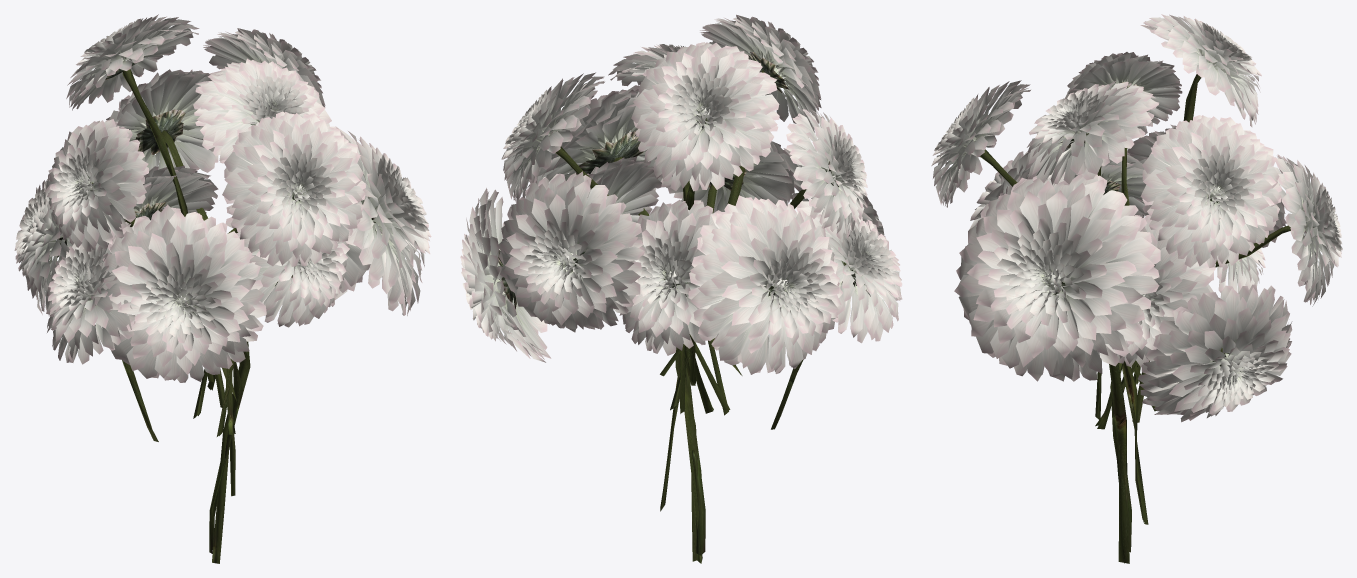
The model's file is z1_crisantemo.obj.
3 renders of one model, left to right at view 1: azimuth 30°, elevation 25°; view 2: azimuth 150°, elevation 25°; view 3: azimuth 270°, elevation 25°, orthographic. The views are drawn at different scales.
Parts seen in each view (by area): view 1: _Dahlia_WHITE2_270224_1; view 2: _Dahlia_WHITE2_270224_1; view 3: _Dahlia_WHITE2_270224_1.
Part boxes in pixels (left/top/right/bottom): _Dahlia_WHITE2_270224_1: left=14, top=14, right=431, bottom=563; _Dahlia_WHITE2_270224_1: left=460, top=14, right=902, bottom=563; _Dahlia_WHITE2_270224_1: left=931, top=14, right=1342, bottom=563.
Bounding box in the file's own units: 0.3275 × 0.4522 × 0.321.
Materials: 5 (5 with a texture image).
